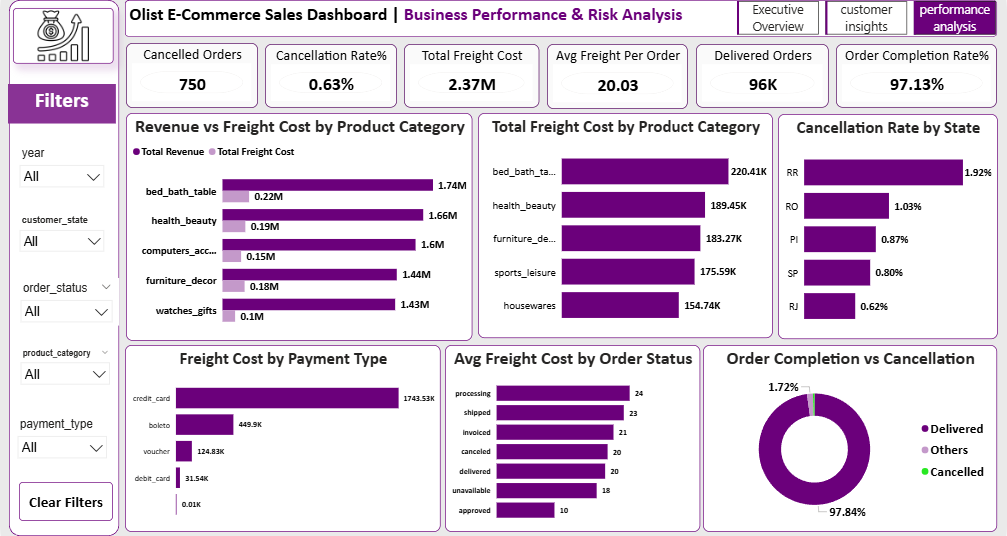

What the dashboard file says about the page in this screenshot:
{"tool":"powerbi","page":{"name":"performance analysis","canvas":[1500,800],"ordinal":2},"visuals":[{"type":"shape","box":[11.3,0,164.5,800],"z":0},{"type":"shape","box":[185.5,0,1301.6,54.8],"z":1000},{"type":"cardVisual","title":"Cancelled Orders","fields":{"Data":["master_table_final.total canceled orders"]},"box":[186.2,63.8,196.6,96.6],"z":2000},{"type":"cardVisual","title":"Cancellation Rate%","fields":{"Data":["master_table_final.cancellation rate%"]},"box":[394.2,65.5,196.6,94.8],"z":3000},{"type":"cardVisual","title":"Total Freight Cost","fields":{"Data":["Sum(master_table_final.freight_value)"]},"box":[602.1,65.5,201.7,94.8],"z":4000},{"type":"cardVisual","title":"Avg Freight Per Order","fields":{"Data":["Avg(master_table_final.freight_value)"]},"box":[815.2,65.5,210.3,96.6],"z":5000},{"type":"cardVisual","title":"Delivered Orders","fields":{"Data":["master_table_final.delivered orders"]},"box":[1037,66.1,198.4,95.2],"z":6000},{"type":"cardVisual","title":"Order Completion Rate%","fields":{"Data":["master_table_final.order completion rate%"]},"box":[1246.8,66.1,240.3,95.2],"z":7000},{"type":"clusteredBarChart","title":"Freight Cost by Payment Type","fields":{"Category":["master_table_final.payment_type"],"Y":["Sum(master_table_final.freight_value)"]},"box":[185.5,514.5,471,279],"z":8000},{"type":"clusteredBarChart","title":"Revenue vs Freight Cost by Product Category","fields":{"Category":["master_table_final.product_category_name_english"],"Y":["Sum(master_table_final.payment_value)","Sum(master_table_final.freight_value)"]},"box":[186.2,169,517.2,339.7],"z":9000},{"type":"clusteredBarChart","title":"Total Freight Cost by Product Category","fields":{"Category":["master_table_final.product_category_name_english"],"Y":["Sum(master_table_final.freight_value)"]},"box":[712.1,169,439.7,336.2],"z":10000},{"type":"donutChart","title":"Order Completion vs Cancellation","fields":{"Category":["master_table_final.order status group"],"Y":["Count(master_table_final.order_id)"]},"box":[1048.4,514.5,438.7,279],"z":11000},{"type":"clusteredBarChart","title":"Cancellation Rate by State","fields":{"Category":["master_table_final.customer_state"],"Y":["master_table_final.cancellation rate%"]},"box":[1160.3,170.7,327.6,336.2],"z":12000},{"type":"slicer","fields":{"Values":["master_table_final.purchase_year"]},"box":[17.9,213.4,146.3,71.6],"z":13000},{"type":"slicer","fields":{"Values":["master_table_final.product_category_name_english"]},"box":[19,515.2,153.4,72.4],"z":14000},{"type":"slicer","fields":{"Values":["master_table_final.order_status"]},"box":[19,414.9,156.9,70.7],"z":15000},{"type":"slicer","fields":{"Values":["master_table_final.customer_state"]},"box":[17.9,316.4,146.3,70.1],"z":16000},{"type":"slicer","fields":{"Values":["master_table_final.payment_type"]},"box":[15.5,617.2,153.4,70.7],"z":17000},{"type":"actionButton","box":[27.4,719.4,140.3,58.1],"z":18000},{"type":"textbox","box":[10.6,125.1,160.6,59.1],"z":19000},{"type":"textbox","box":[186.6,0,914.9,53.7],"z":20000},{"type":"image","box":[18.2,12.1,150,83.3],"z":21000},{"type":"clusteredBarChart","title":"Avg Freight Cost by Order Status","fields":{"Category":["master_table_final.order_status"],"Y":["Avg(master_table_final.freight_value)"]},"box":[662.1,514.5,380.6,279],"z":22000},{"type":"pageNavigator","box":[1098.5,1.5,388.1,50.7],"z":22001}]}

Visuals, with their boxes in screenshot pixels (x1, y1, x2, y2), scaled from the page's 1500x800 canvas onto the 1007x536 screenshot:
shape: select_region(8, 0, 118, 535)
shape: select_region(125, 0, 998, 37)
"Cancelled Orders" cardVisual: select_region(125, 43, 257, 107)
"Cancellation Rate%" cardVisual: select_region(265, 44, 397, 107)
"Total Freight Cost" cardVisual: select_region(404, 44, 540, 107)
"Avg Freight Per Order" cardVisual: select_region(547, 44, 688, 109)
"Delivered Orders" cardVisual: select_region(696, 44, 829, 108)
"Order Completion Rate%" cardVisual: select_region(837, 44, 998, 108)
"Freight Cost by Payment Type" clusteredBarChart: select_region(125, 345, 441, 532)
"Revenue vs Freight Cost by Product Category" clusteredBarChart: select_region(125, 113, 472, 341)
"Total Freight Cost by Product Category" clusteredBarChart: select_region(478, 113, 773, 338)
"Order Completion vs Cancellation" donutChart: select_region(704, 345, 998, 532)
"Cancellation Rate by State" clusteredBarChart: select_region(779, 114, 999, 340)
slicer - master_table_final.purchase_year: select_region(12, 143, 110, 191)
slicer - master_table_final.product_category_name_english: select_region(13, 345, 116, 394)
slicer - master_table_final.order_status: select_region(13, 278, 118, 325)
slicer - master_table_final.customer_state: select_region(12, 212, 110, 259)
slicer - master_table_final.payment_type: select_region(10, 414, 113, 461)
actionButton: select_region(18, 482, 113, 521)
textbox: select_region(7, 84, 115, 123)
textbox: select_region(125, 0, 739, 36)
image: select_region(12, 8, 113, 64)
"Avg Freight Cost by Order Status" clusteredBarChart: select_region(444, 345, 700, 532)
pageNavigator: select_region(737, 1, 998, 35)
